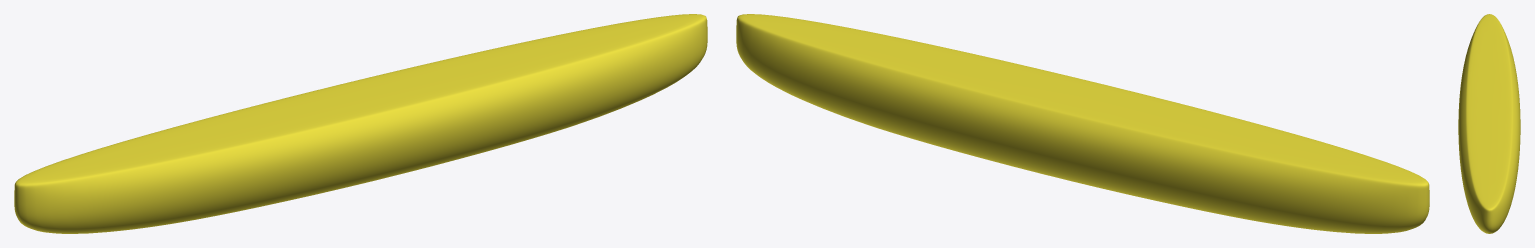
File: yut-long.glb
3 renders of one model, left to right at view 1: azimuth 30°, elevation 25°; view 2: azimuth 150°, elevation 25°; view 3: azimuth 270°, elevation 25°, orthographic. The views are drawn at different scales.
Parts seen in each view (by area): view 1: Cube.004; view 2: Cube.004; view 3: Cube.004.
Part boxes in pixels (x1,y1,x2,y2): Cube.004: (14, 14, 707, 233); Cube.004: (736, 14, 1429, 233); Cube.004: (1458, 14, 1520, 233).
Bounding box in the file's own units: 18.51 × 2.02 × 2.48.
